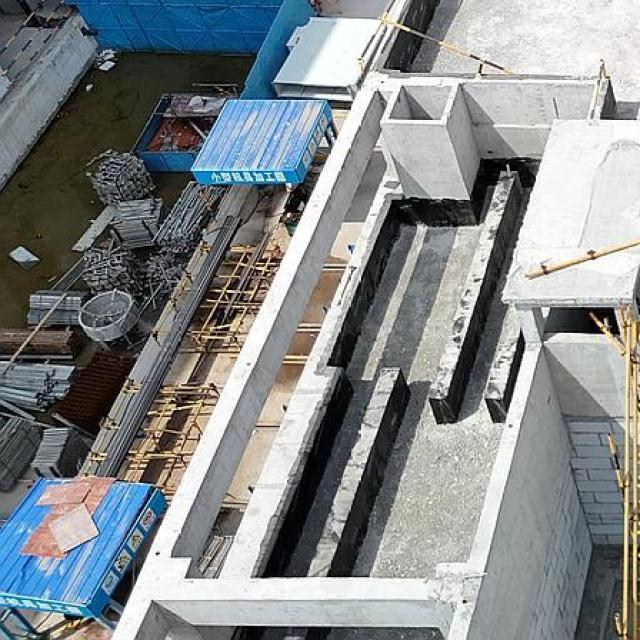edge_guardrail: (379, 17, 518, 76), (0, 0, 74, 81), (358, 0, 396, 73)
